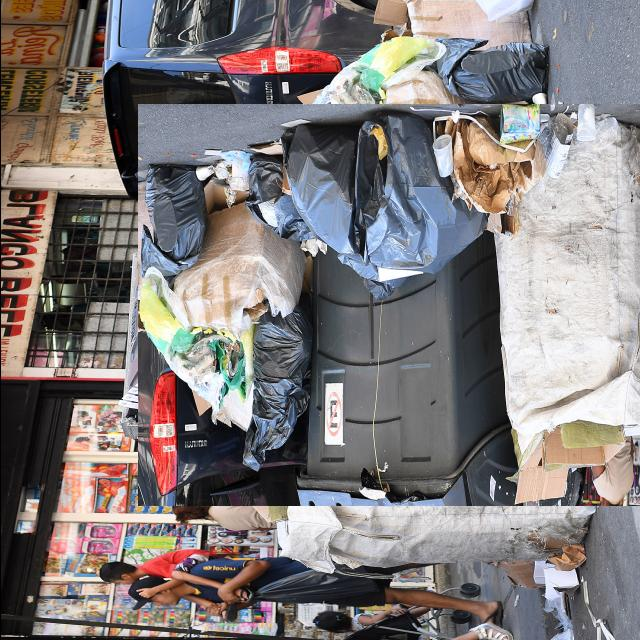garbage: (170, 68, 640, 540)
